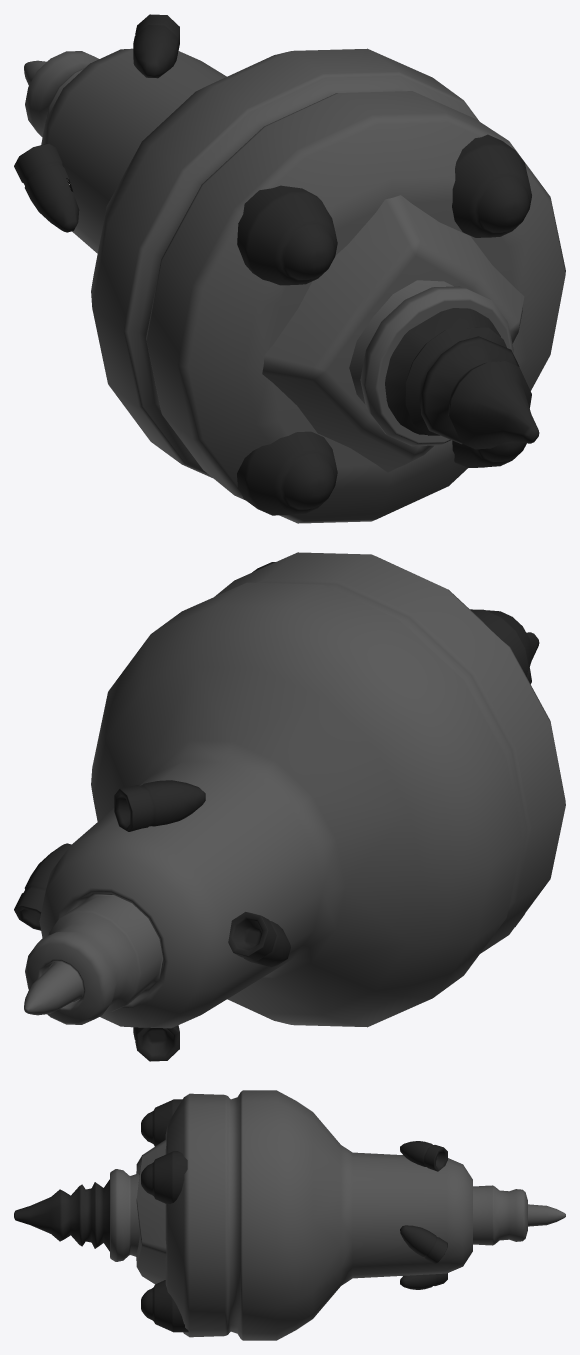
File: _Dron_drill.fbx
3 renders of one model, top to bottom at view 1: azimuth 30°, elevation 25°; view 2: azimuth 150°, elevation 25°; view 3: azimuth 270°, elevation 25°, orthographic. The views are drawn at different scales.
Visible parts, largest first — view 1: Dron_drill; view 2: Dron_drill; view 3: Dron_drill.
Part boxes in pixels (left/top/right/bottom): Dron_drill: left=14, top=14, right=565, bottom=523; Dron_drill: left=14, top=552, right=565, bottom=1061; Dron_drill: left=14, top=1090, right=565, bottom=1340.
Bounding box in the file's own units: 165 × 165 × 363.
Materials: 1 (1 with a texture image).
